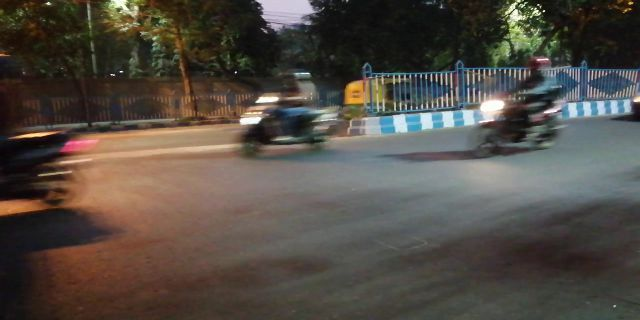Motorbike: (457, 57, 566, 154), (229, 69, 337, 159)
